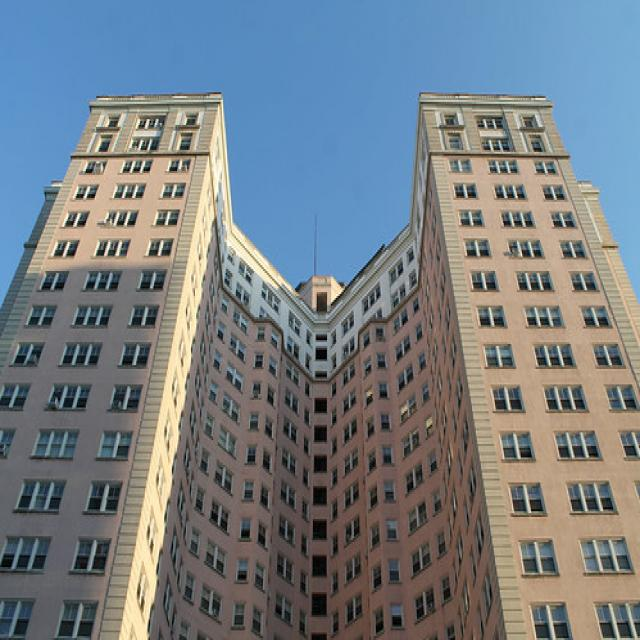Normal_building: (410, 82, 639, 640), (6, 79, 233, 636)
